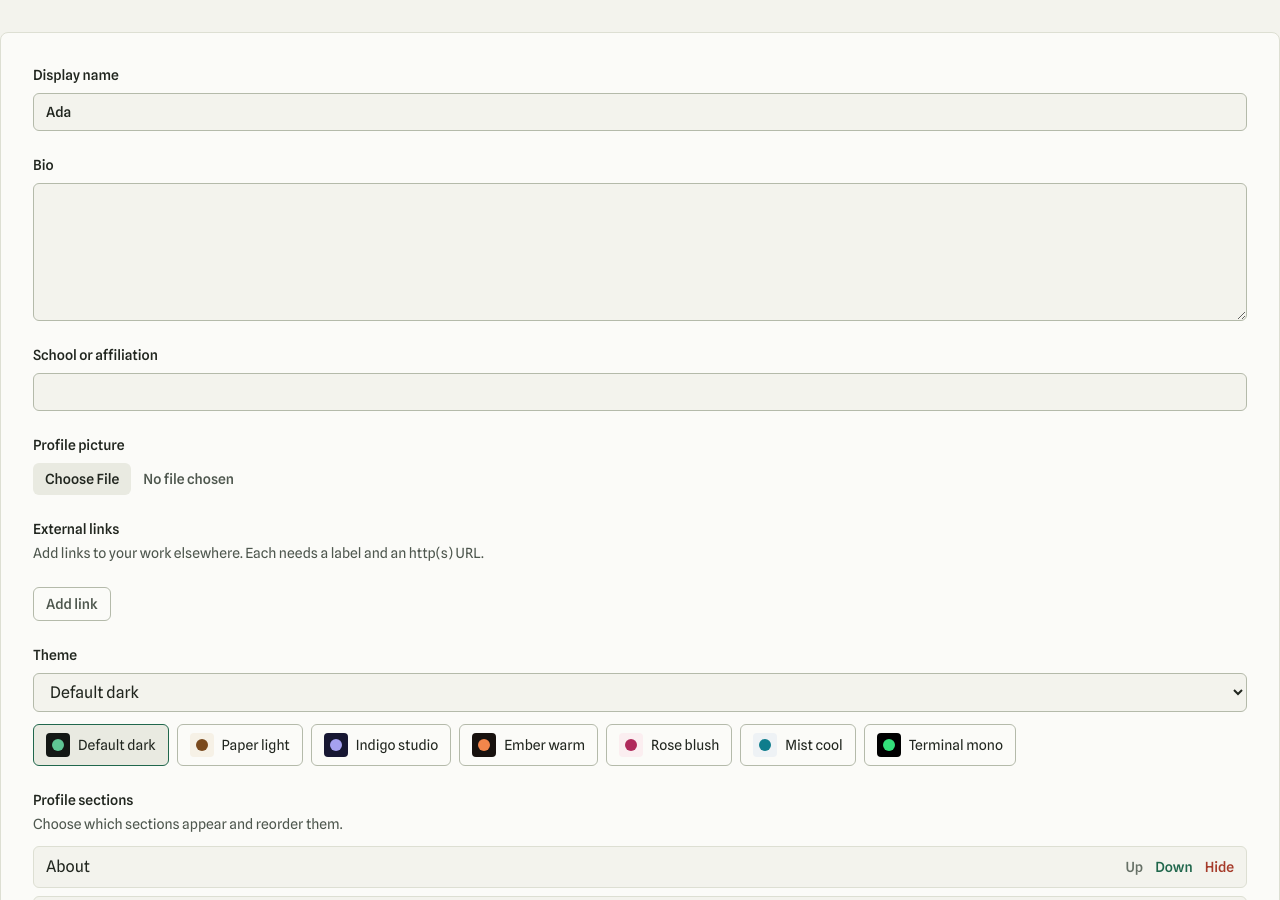
Test case: the external links row form › rejects a row with an unsafe URL inline and blocks save
The image size is (1280, 900).
Click the button "Add link": (72, 604) [33,587,111,621]
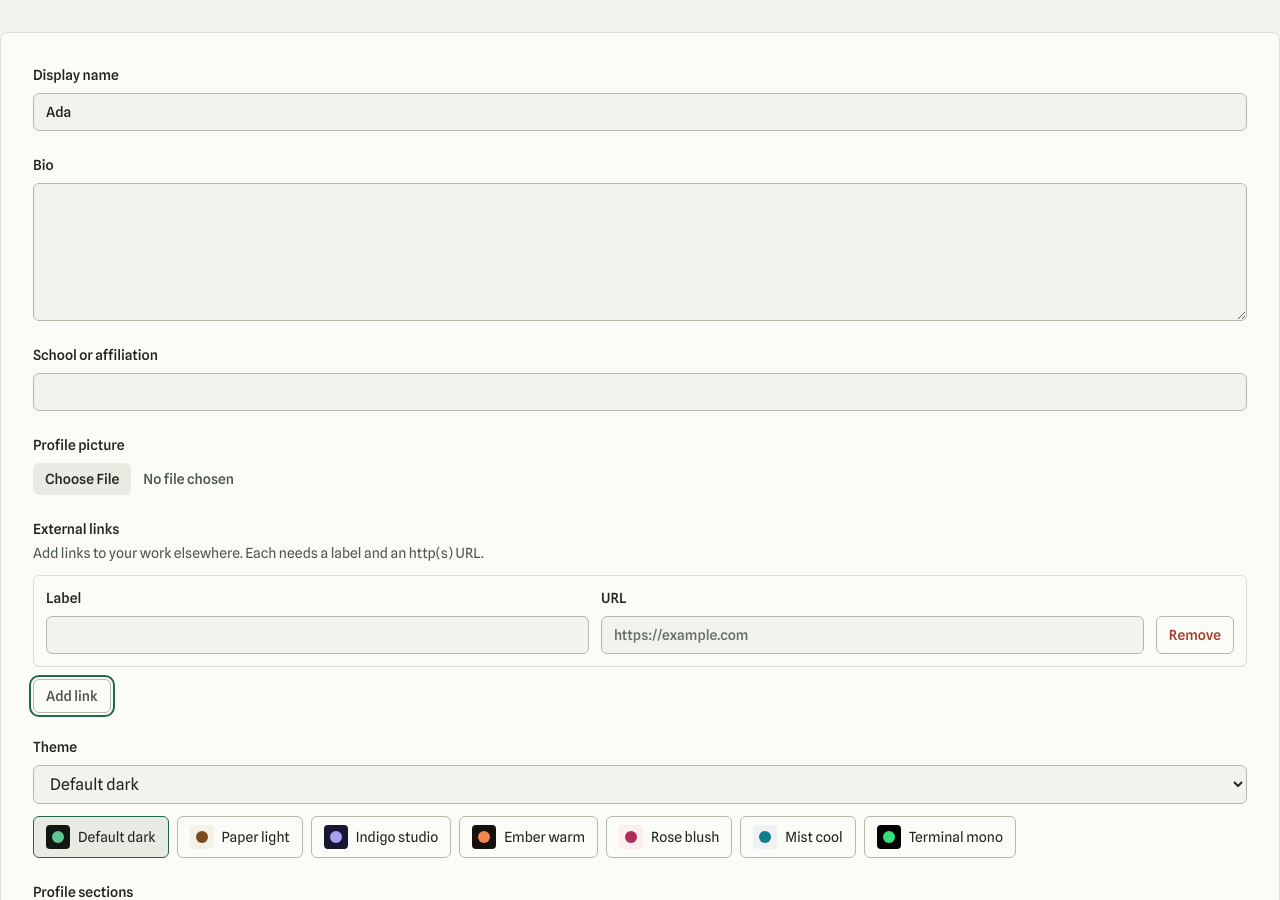
In the field labelled "Label": (317, 635) [46,616,589,654], type "Bad"
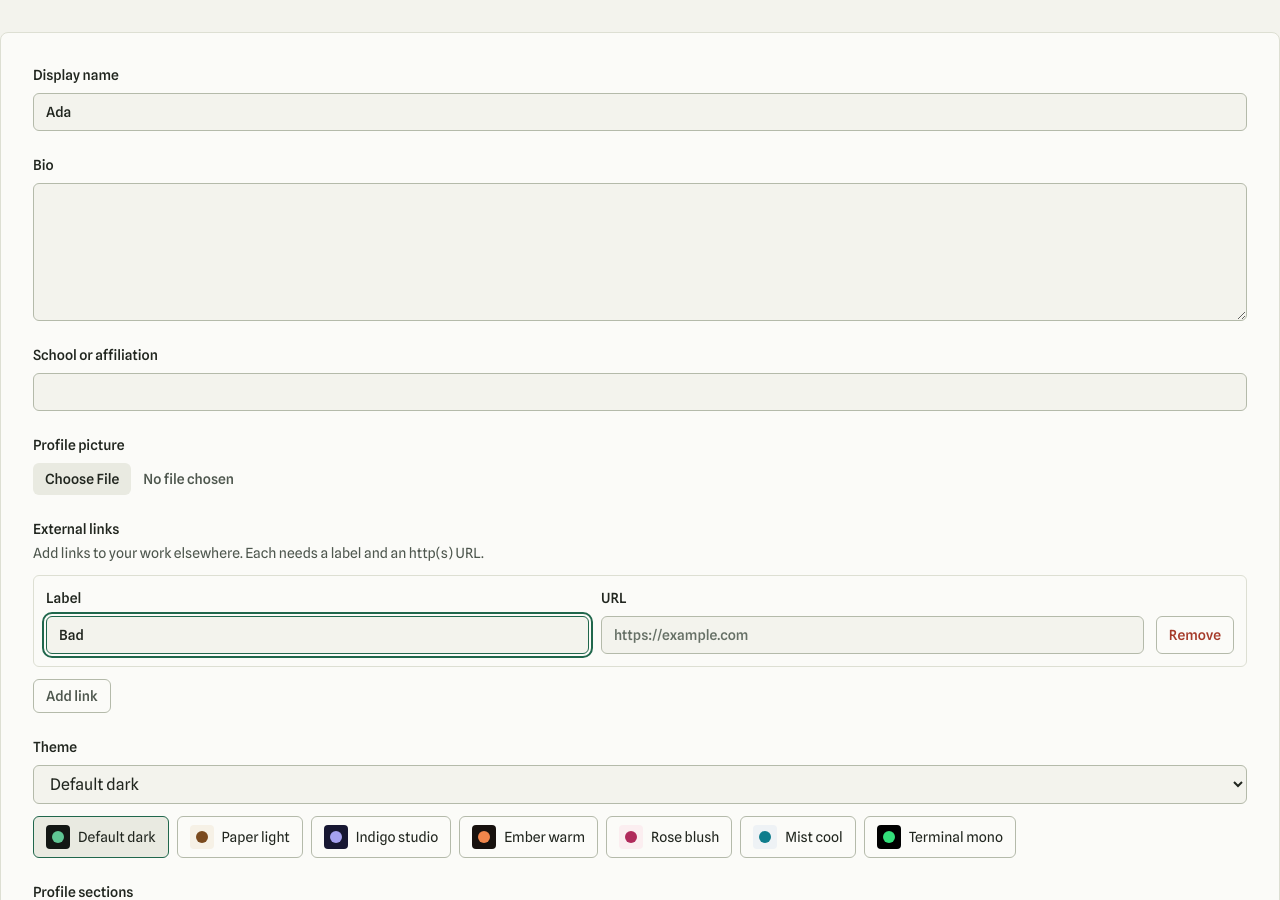
In the field labelled "URL": (872, 635) [601,616,1144,654], type "javascript:alert(1)"
(page scrolled)
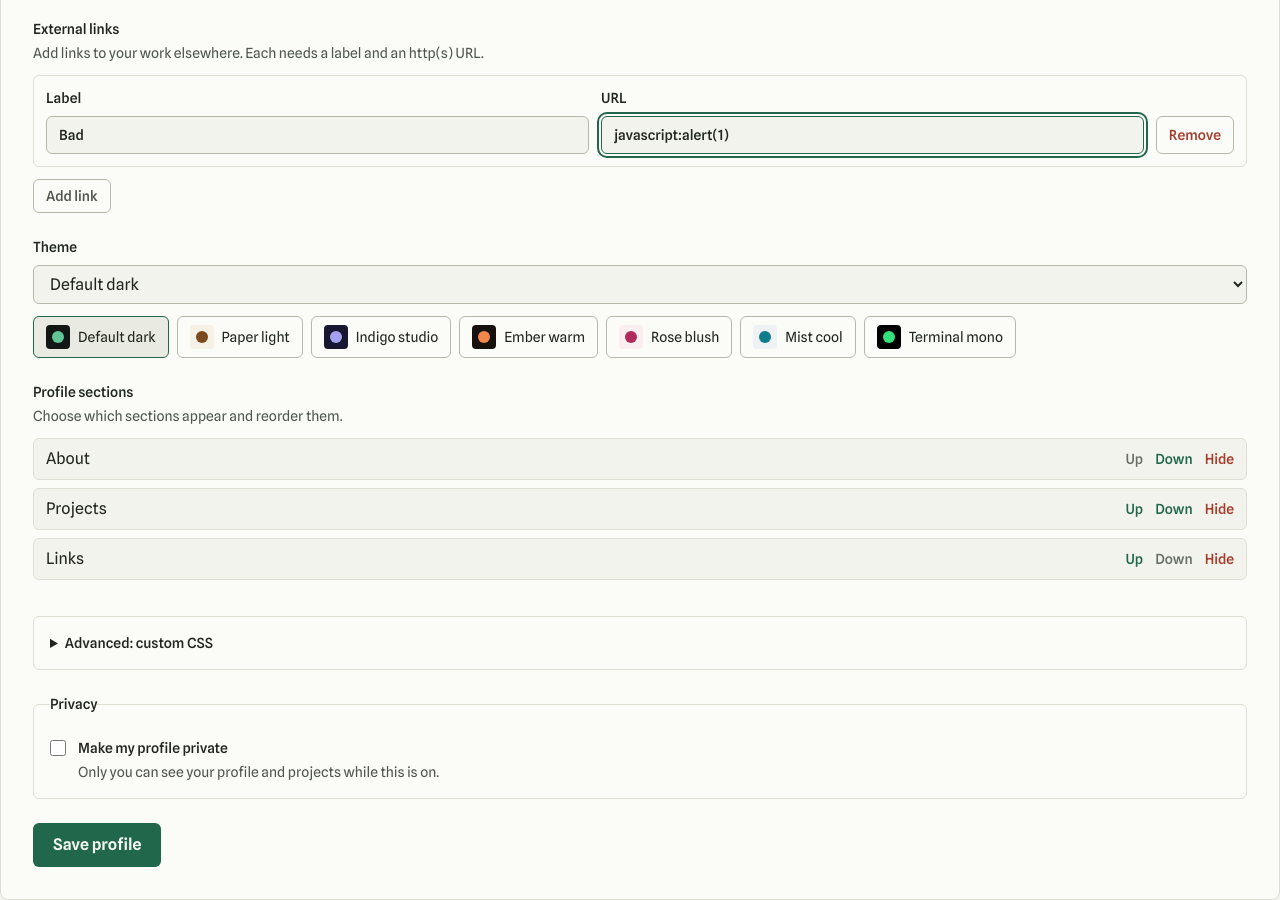
Click the button "Save profile": (97, 845) [33,823,161,867]
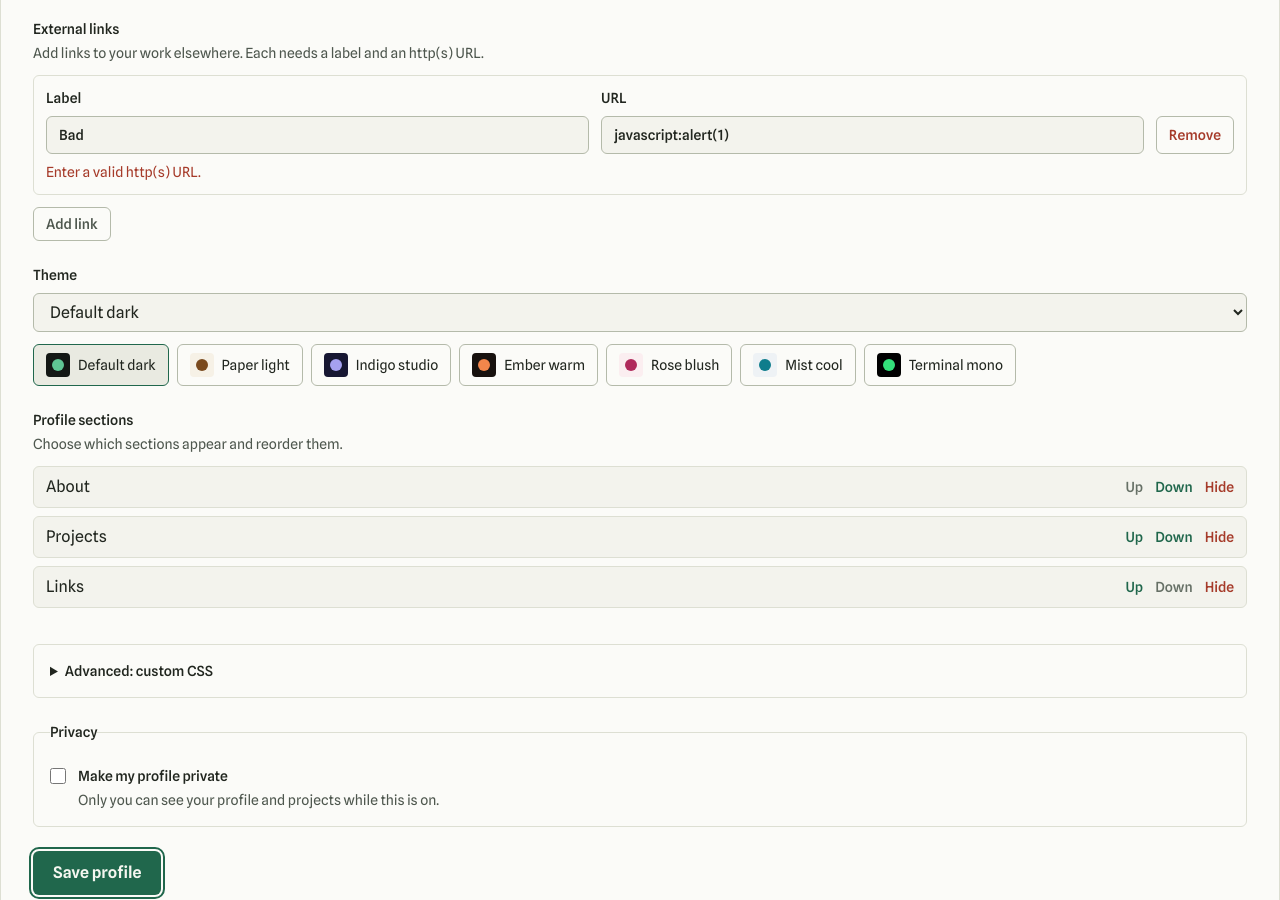
Result: the text "Enter a valid http(s) URL." is shown at [46,164,201,180]
